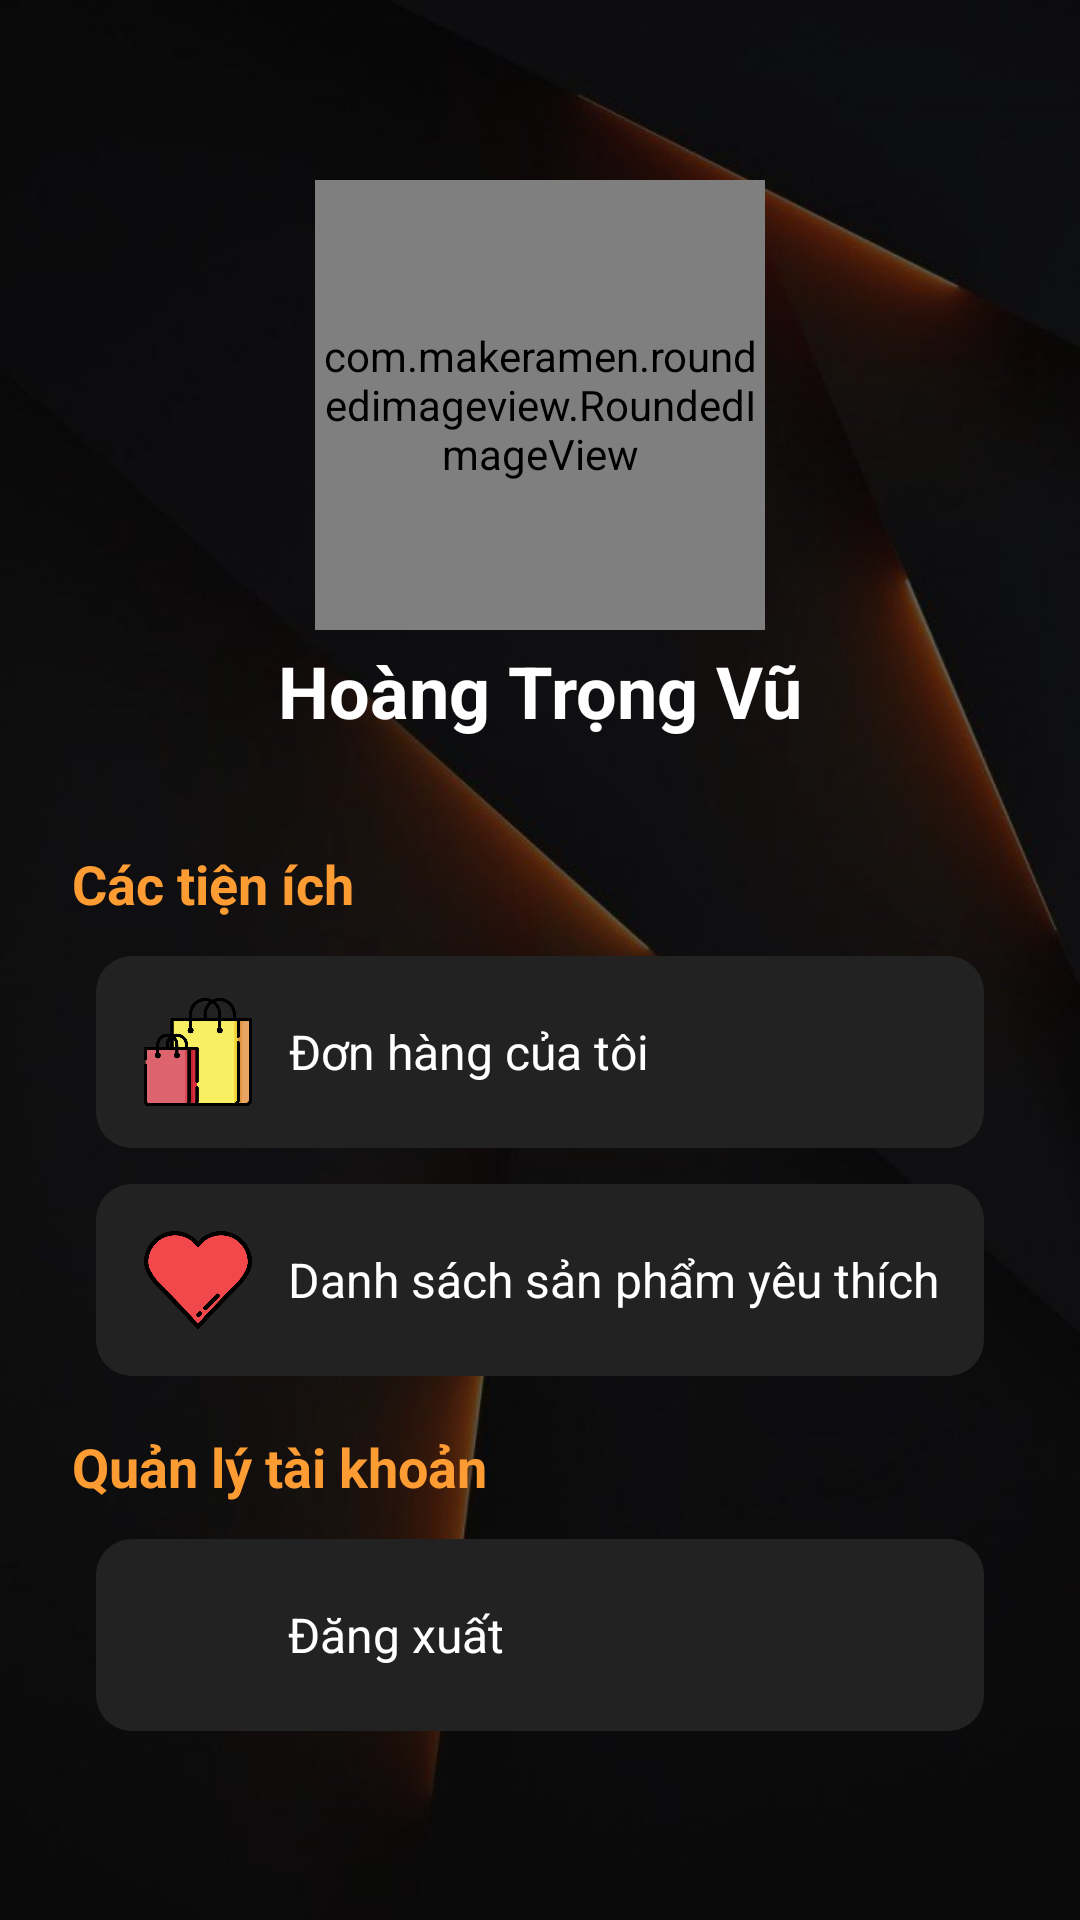

Point at icon controls on the screen. Image size 1080x1920, points as point (x, y).
love: point (198, 1280)
order: point (198, 1052)
